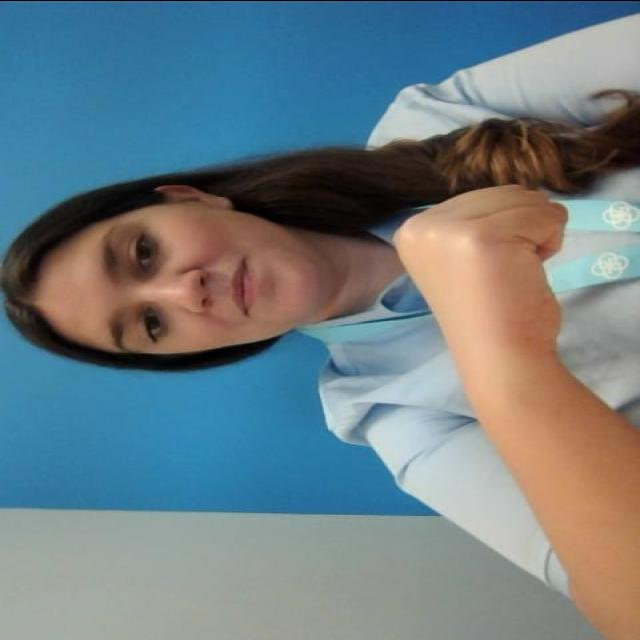Rock: (388, 178, 582, 360)
